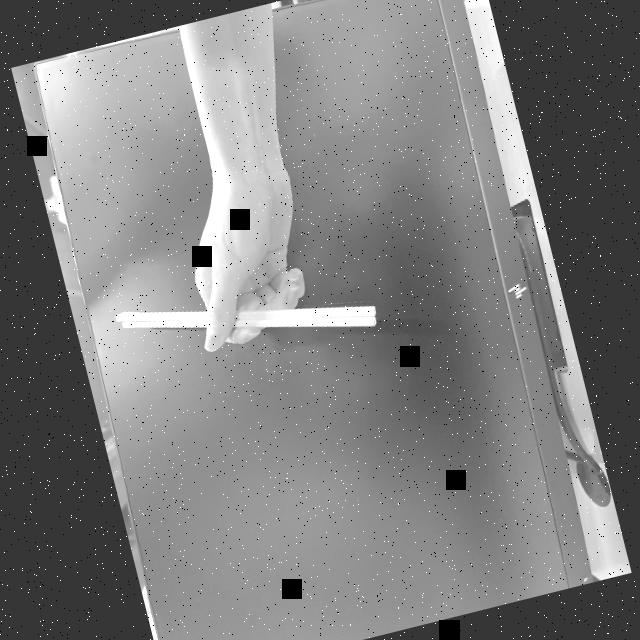stick: (92, 174, 380, 390)
